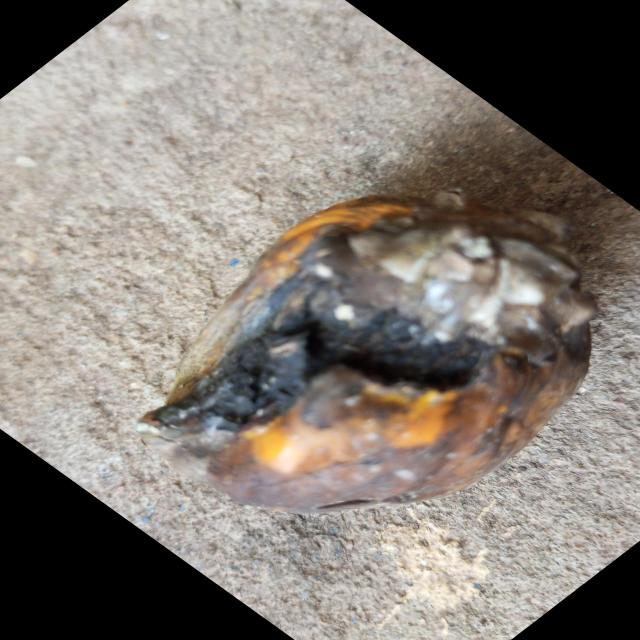damaged: (138, 187, 597, 515)
